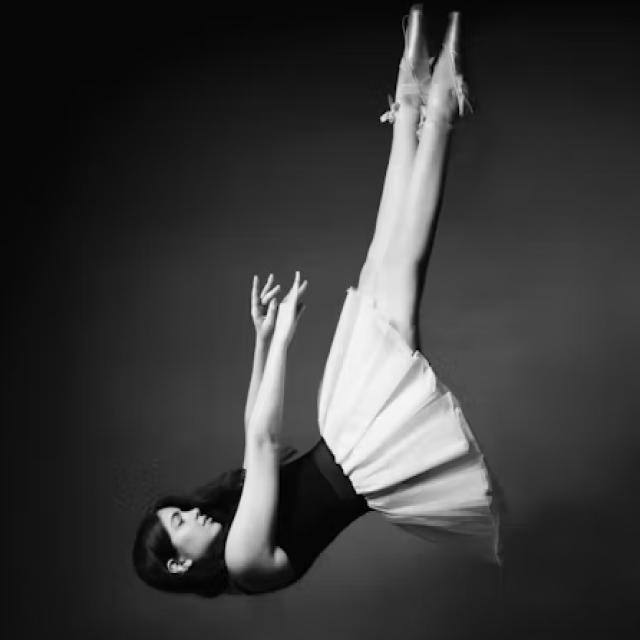Edited images: (123, 1, 511, 604)
